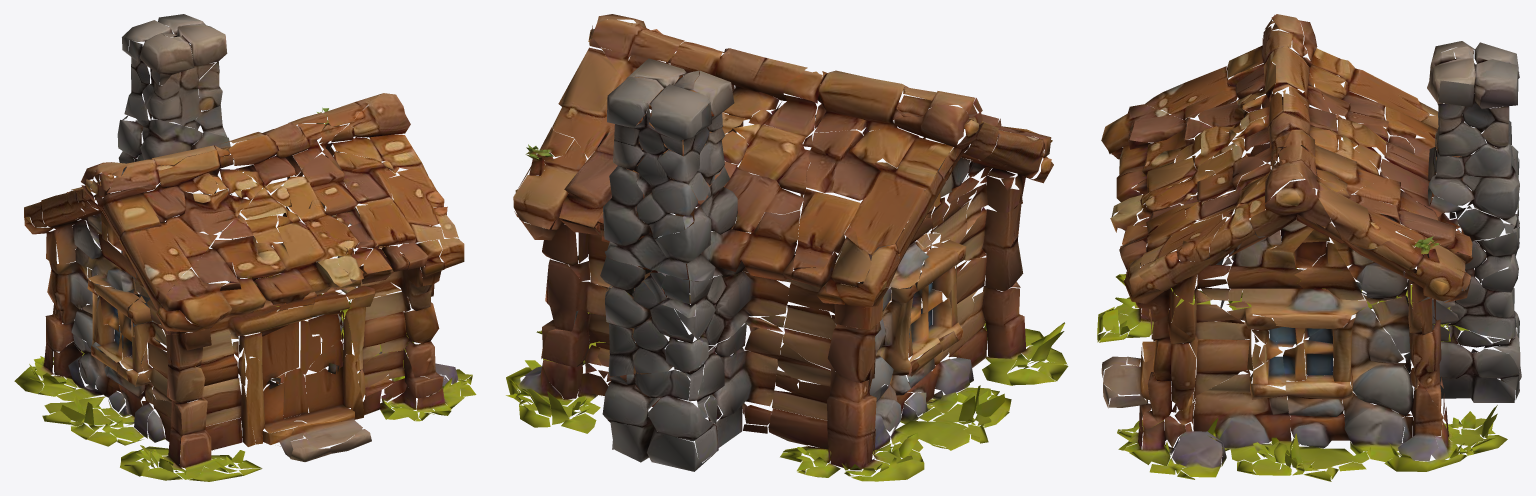
Rendered from cabana.glb.
The picture shows the model from 3 angles, left to right: view 1: azimuth 30°, elevation 25°; view 2: azimuth 150°, elevation 25°; view 3: azimuth 270°, elevation 25°; orthographic projection. The views are drawn at different scales.
Parts seen in each view (by area): view 1: tripo_node_d45f521d-9d31-4686-adf9-a3255ba0354b; view 2: tripo_node_d45f521d-9d31-4686-adf9-a3255ba0354b; view 3: tripo_node_d45f521d-9d31-4686-adf9-a3255ba0354b.
Part boxes in pixels (x1,y1,x2,y2): tripo_node_d45f521d-9d31-4686-adf9-a3255ba0354b: [14, 14, 476, 481]; tripo_node_d45f521d-9d31-4686-adf9-a3255ba0354b: [506, 14, 1068, 481]; tripo_node_d45f521d-9d31-4686-adf9-a3255ba0354b: [1097, 14, 1521, 481].
Size of the model in its own units: 0.9956 by 0.78 by 0.8913.
Materials: 1 (1 with a texture image).
